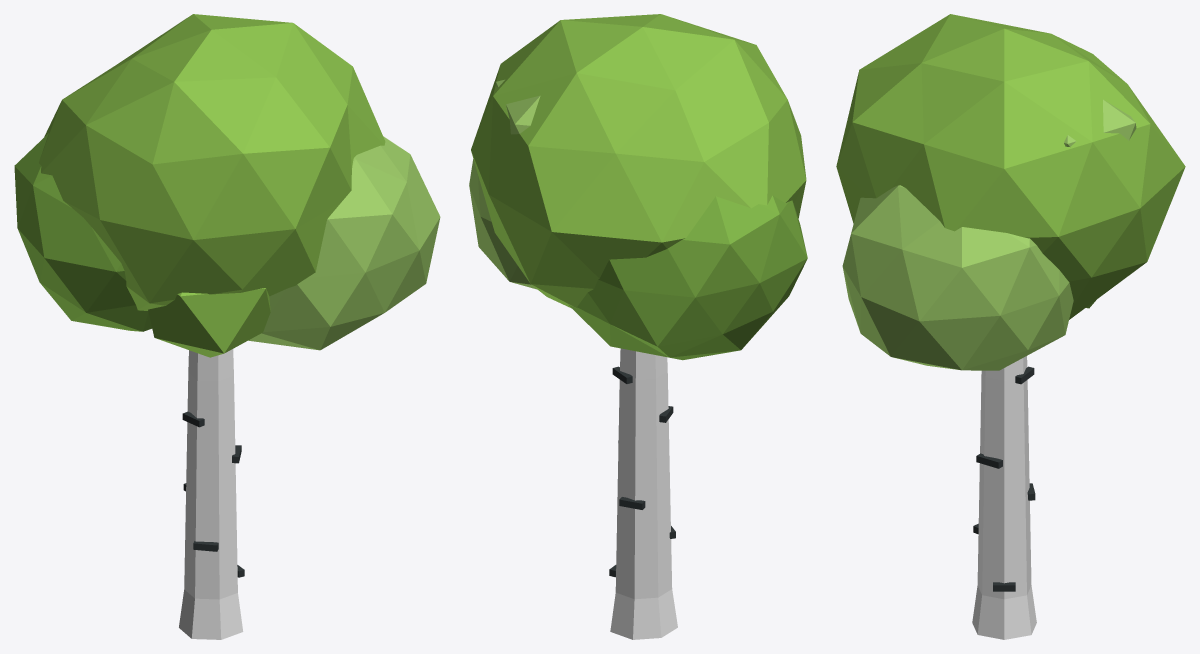
Rendered from birch.glb.
3 renders of one model, left to right at view 1: azimuth 30°, elevation 25°; view 2: azimuth 150°, elevation 25°; view 3: azimuth 270°, elevation 25°, orthographic.
Visible parts, largest first — view 1: birch-m; view 2: birch-m; view 3: birch-m.
Boxes of the visible parts, x1,y1,x2,y2 form: birch-m: (14, 14, 440, 639); birch-m: (469, 14, 807, 639); birch-m: (836, 14, 1185, 639).
Bounding box in the file's own units: 2.89 × 4.68 × 2.48.
